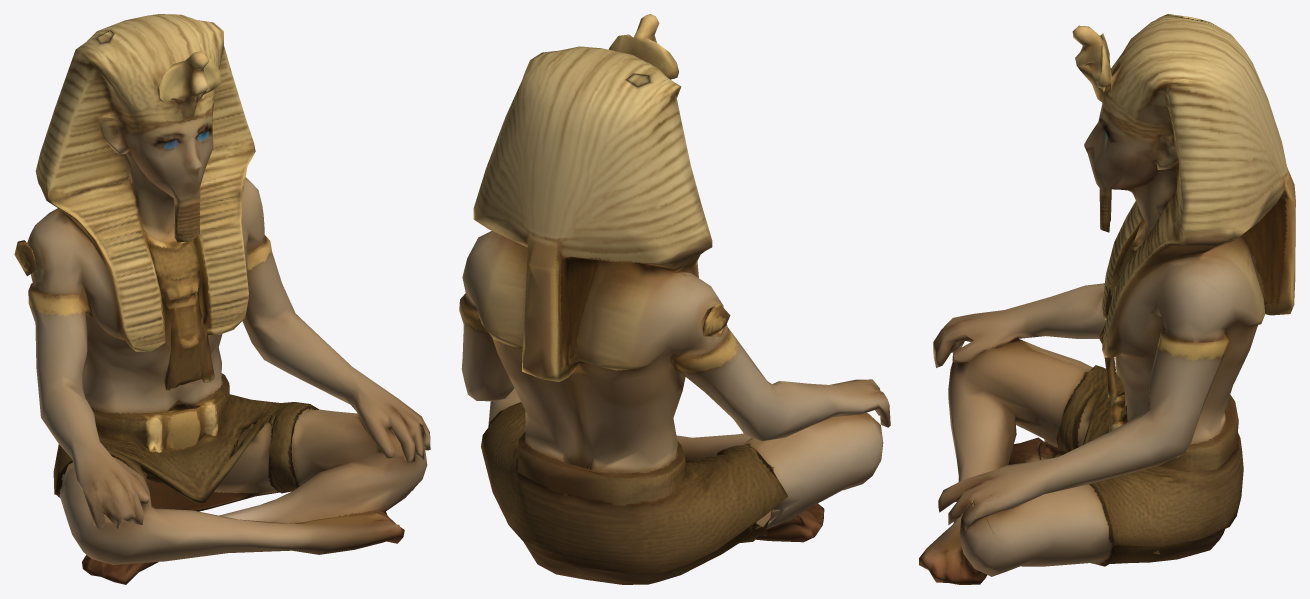
Rendered from statue.glb.
3 renders of one model, left to right at view 1: azimuth 30°, elevation 25°; view 2: azimuth 150°, elevation 25°; view 3: azimuth 270°, elevation 25°, orthographic. The views are drawn at different scales.
Visible parts, largest first — view 1: geometry_0; view 2: geometry_0; view 3: geometry_0.
Boxes of the visible parts, x1,y1,x2,y2 form: geometry_0: [14, 14, 430, 584]; geometry_0: [459, 14, 890, 584]; geometry_0: [919, 14, 1295, 584].
Bounding box in the file's own units: 0.7581 × 1 × 0.6796.
1 material, 1 textured.
